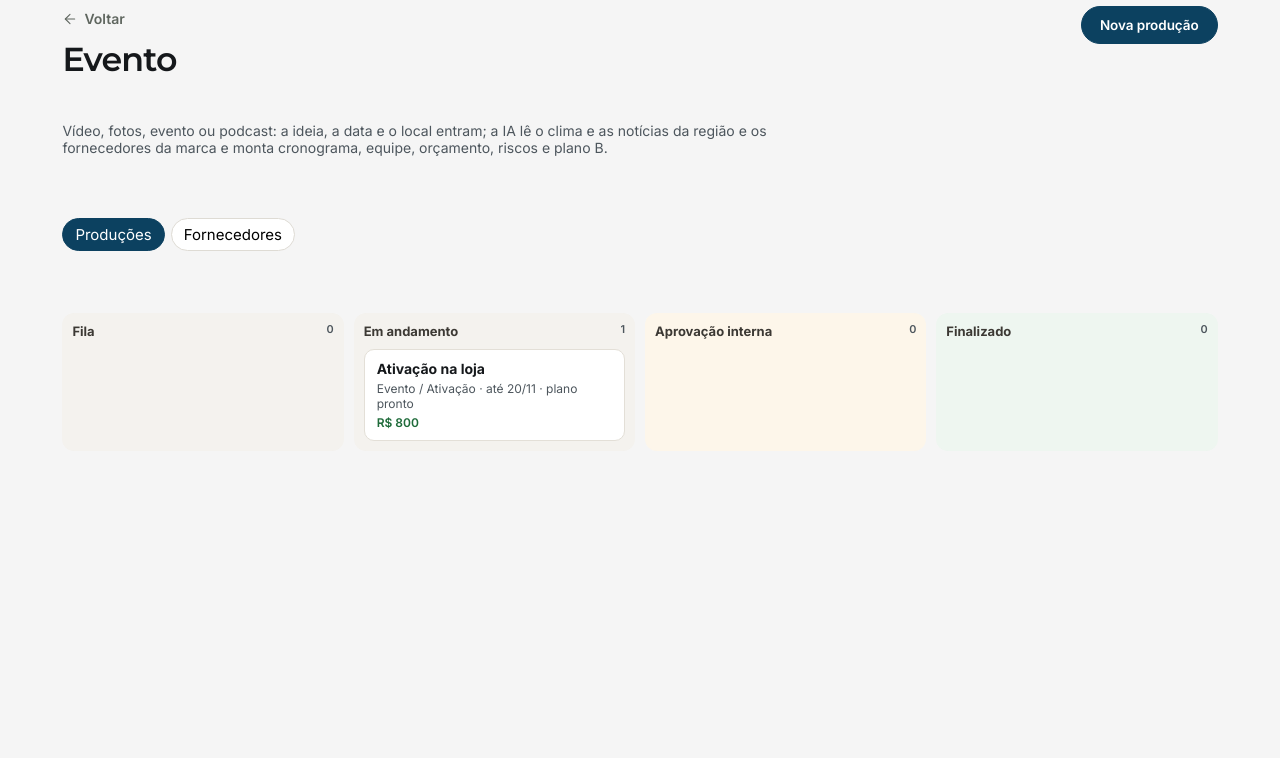
Scenario: Evento: clima e notícias da região › sem local, o botão fica travado e pede o local
What coordinates should you click on to do the following:
click the button that starts with "Ativação na loja"
I would click on:
 (494, 395)
Its box is [364,349,625,441].
(page scrolled)
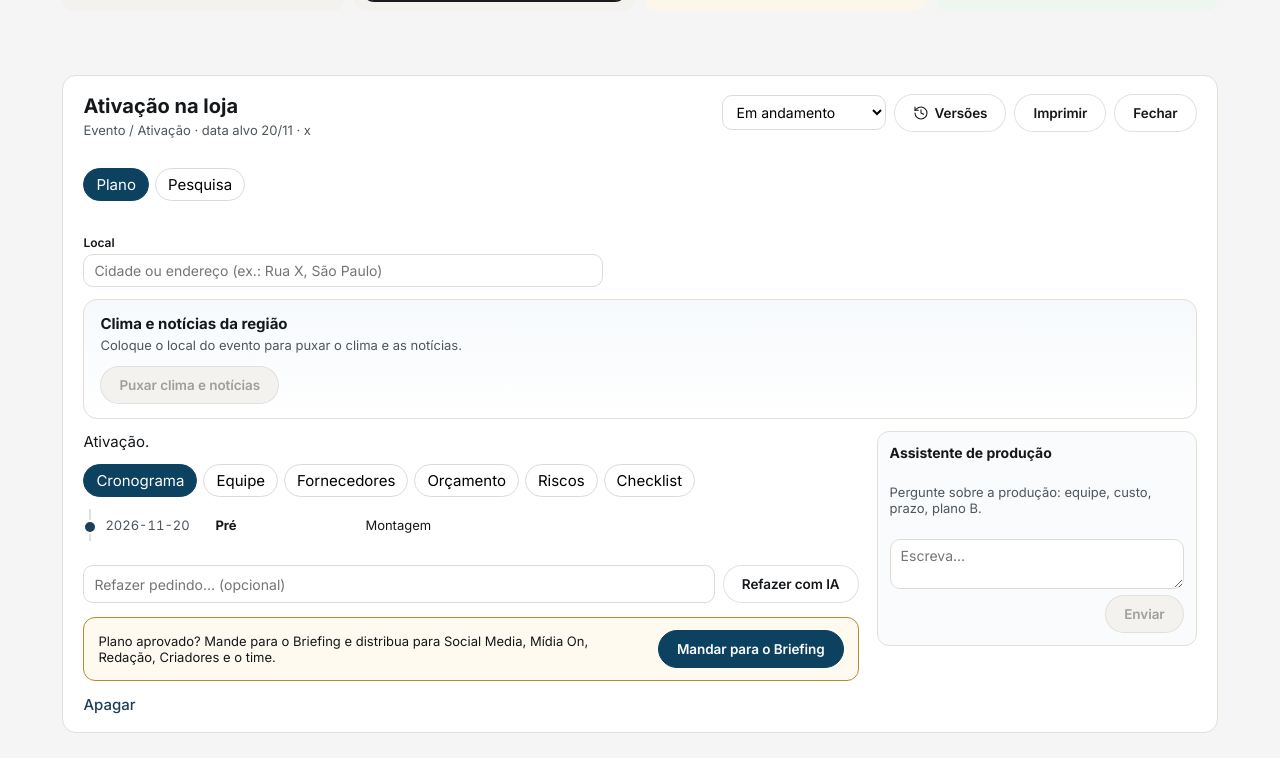
Expected: the button "Puxar clima e notícias" is disabled, [100,366,279,404]
Expected: the element with class "evRadar" shows "Coloque o local do evento", [100,337,462,353]
